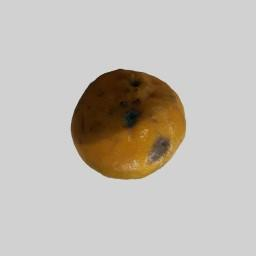Unripe: (71, 70, 186, 179)
